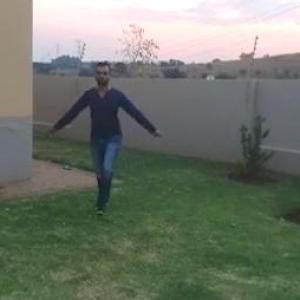land: (57, 55, 171, 202)
